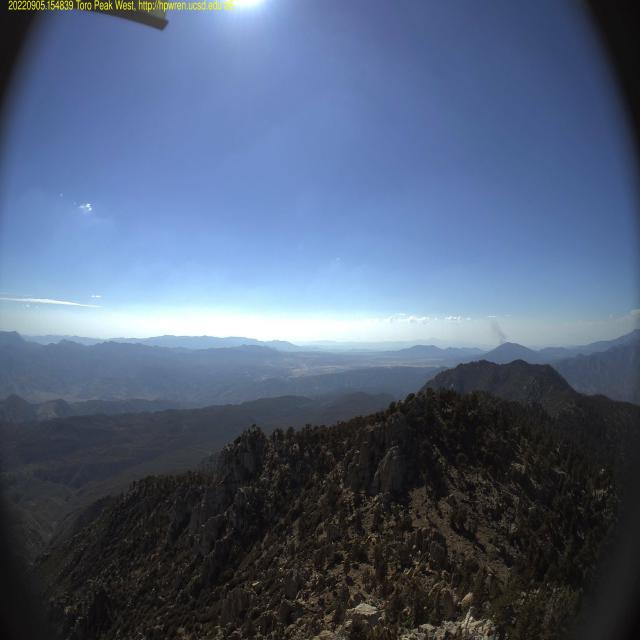smoke: (488, 311, 498, 345), (500, 324, 510, 348)
